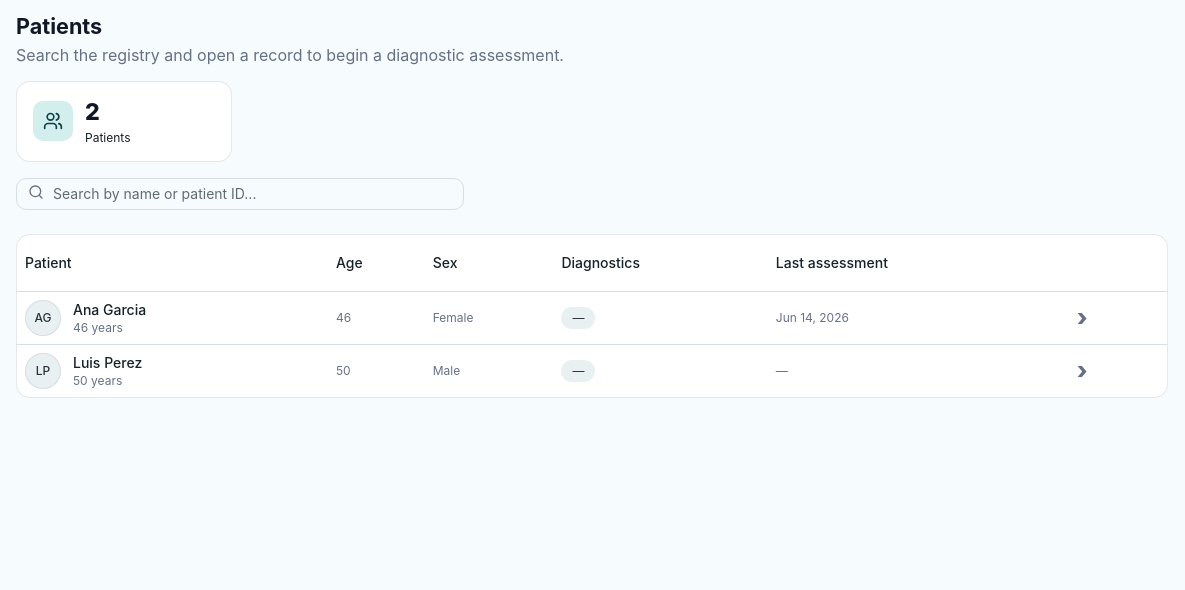
Test: UC-01 AC-01 diagnostic history UI › GIVEN forbidden history WHEN API returns 403 THEN clears stale records and shows auth error
The image size is (1185, 590).
Step 1. Click the button with aria-label "ana garcia clinical record" → coordinates (86, 318), box x1=25 y1=300 x2=146 y2=336
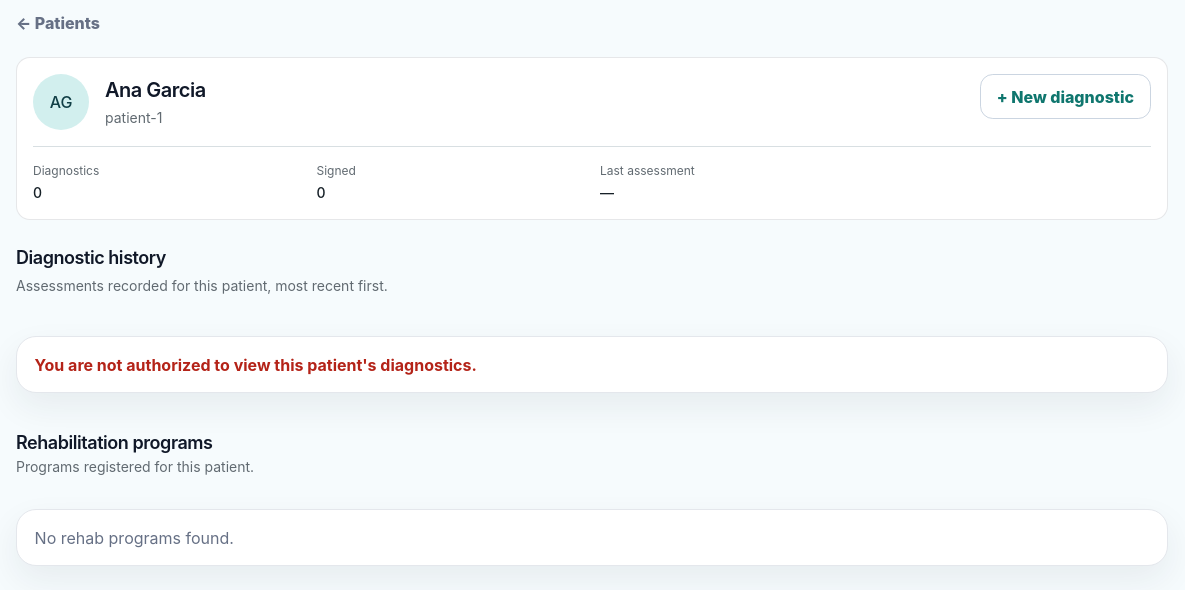
Check: the text "You are not authorized to view this patient's diagnostics." is shown, box x1=16 y1=336 x2=1168 y2=393
